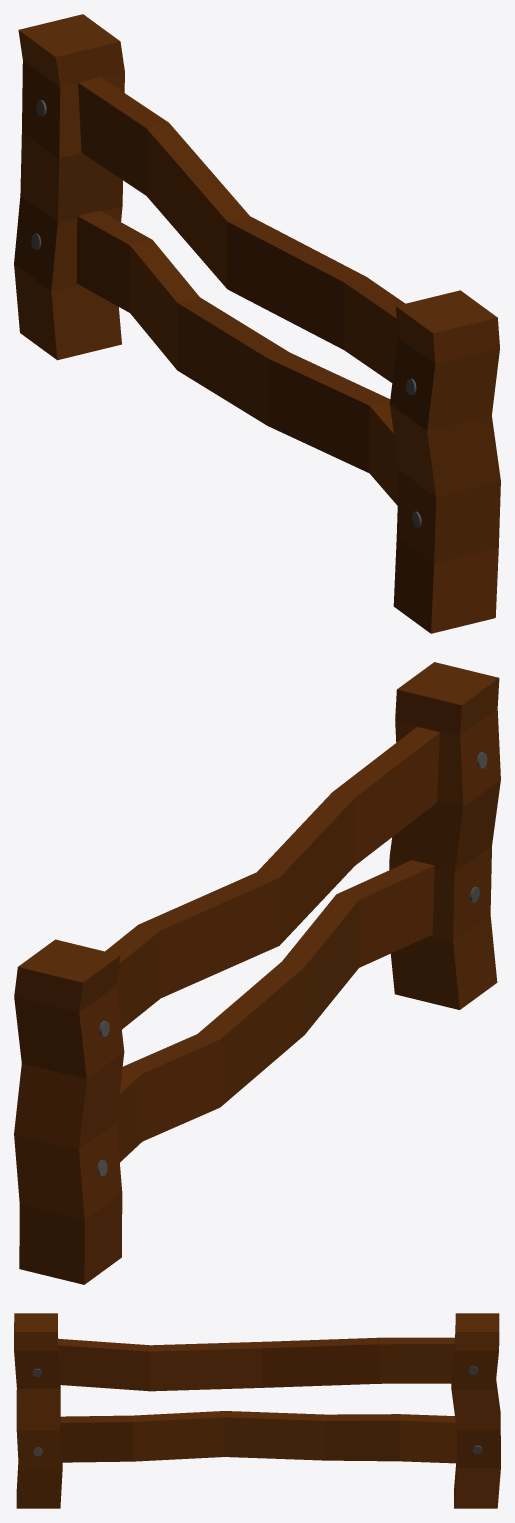
The model's file is Fence.fbx.
3 renders of one model, top to bottom at view 1: azimuth 30°, elevation 25°; view 2: azimuth 150°, elevation 25°; view 3: azimuth 270°, elevation 25°, orthographic. The views are drawn at different scales.
Parts seen in each view (by area): view 1: Fence; view 2: Fence; view 3: Fence.
Boxes of the visible parts, bbox=[...] form: Fence: bbox=[14, 14, 500, 633]; Fence: bbox=[14, 662, 500, 1284]; Fence: bbox=[14, 1313, 500, 1508].
Bounding box in the file's own units: 0.2668 × 1 × 2.5.
